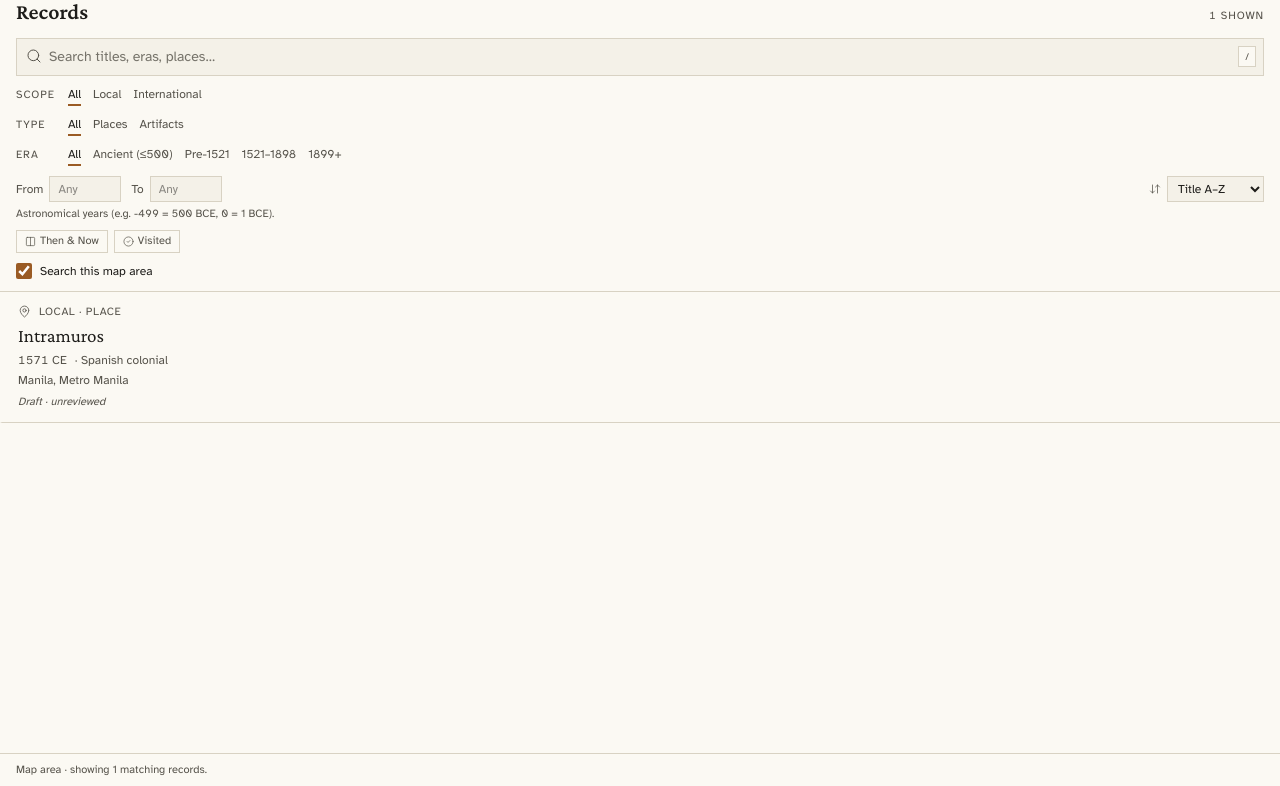
DiscoveryFeed › sets the canonical selection on card click without owning selection state
The width and height of the screenshot is (1280, 786).
Click the button "Intramuros": (640, 357) x1=0 y1=292 x2=1279 y2=423
(page scrolled)
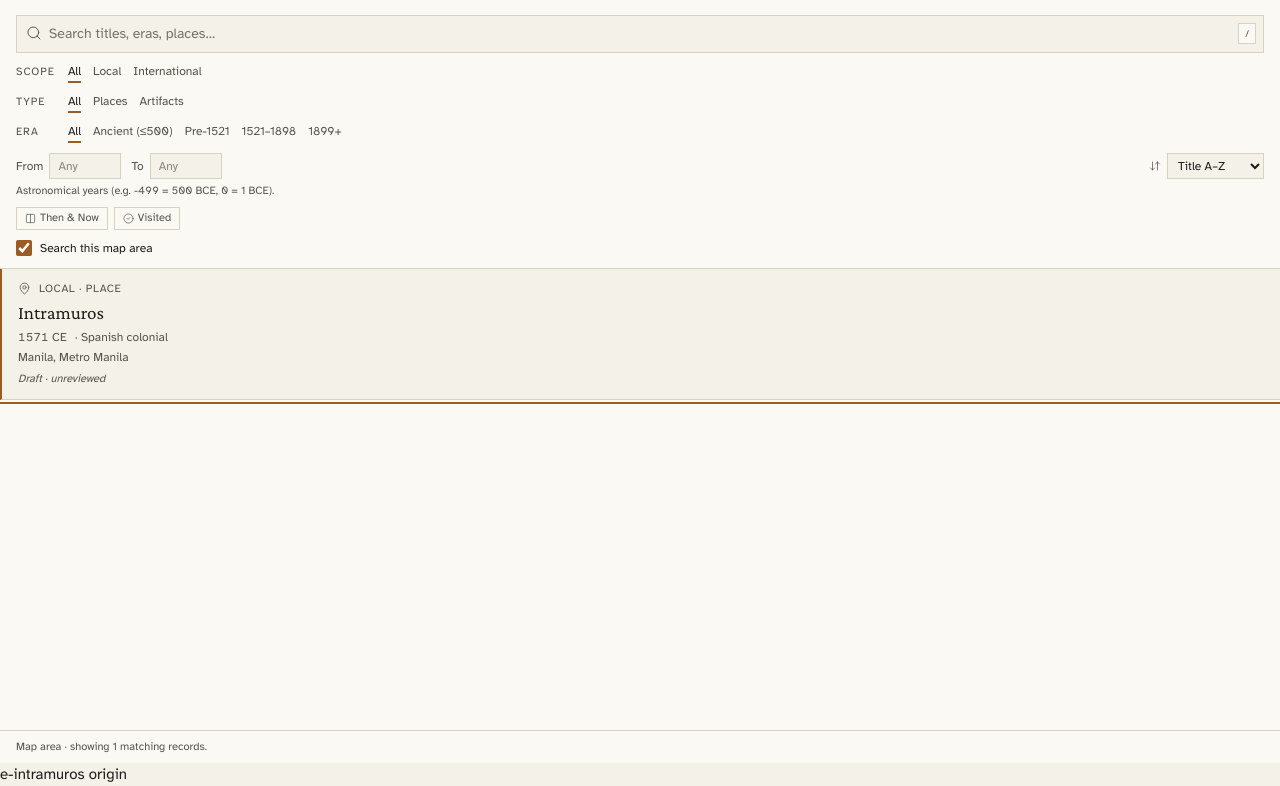
Now the text with test id "selection" reads "e-intramuros origin", box x1=0 y1=765 x2=127 y2=783
